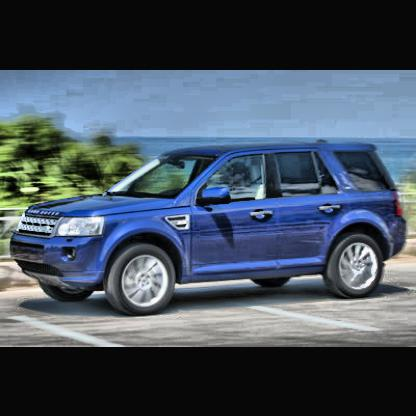Land Rover LR2 SUV 2012: (11, 140, 414, 318)
